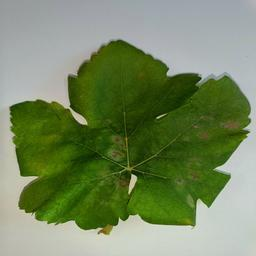Powdery-Mildew: (170, 153, 206, 189), (100, 122, 127, 163), (85, 167, 125, 194), (219, 112, 243, 139), (194, 122, 211, 139), (35, 157, 51, 174)
